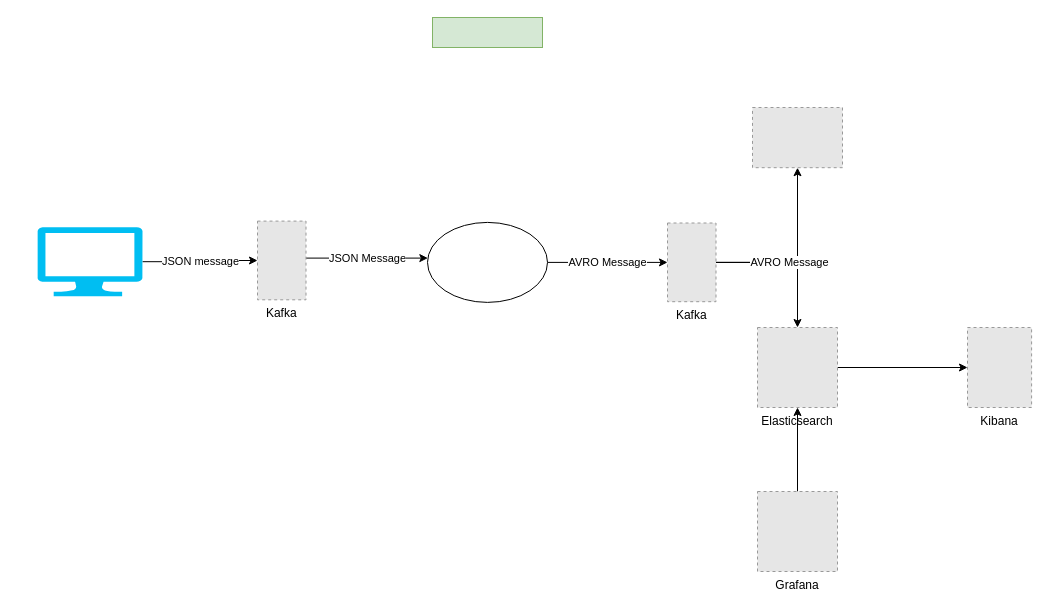
Some shapes in this 1049 by 610 pixel diagram are drawn without their labels. Grey dashed boxes stand in for pictures. Here are the shapes that lost their labels. From the top down, the centre of each, then its label:
the point at 487,32: Messages Flow
the point at 89,261: Twitter Message Generator
the point at 487,261: Enrichment Proc
